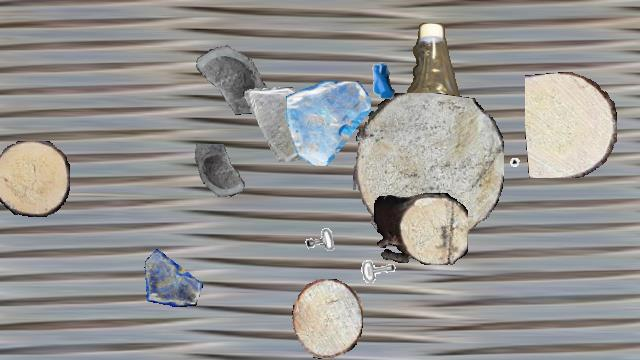glass: (286, 81, 370, 165), (186, 32, 268, 114), (242, 87, 316, 161), (191, 144, 253, 206), (144, 248, 202, 306)
metal: (291, 195, 351, 255), (354, 51, 410, 107), (358, 255, 404, 301), (506, 156, 546, 196)
plastic: (386, 23, 468, 221)
wood: (353, 93, 503, 245), (525, 72, 617, 178), (374, 193, 468, 265), (292, 279, 362, 359), (0, 141, 69, 217)
